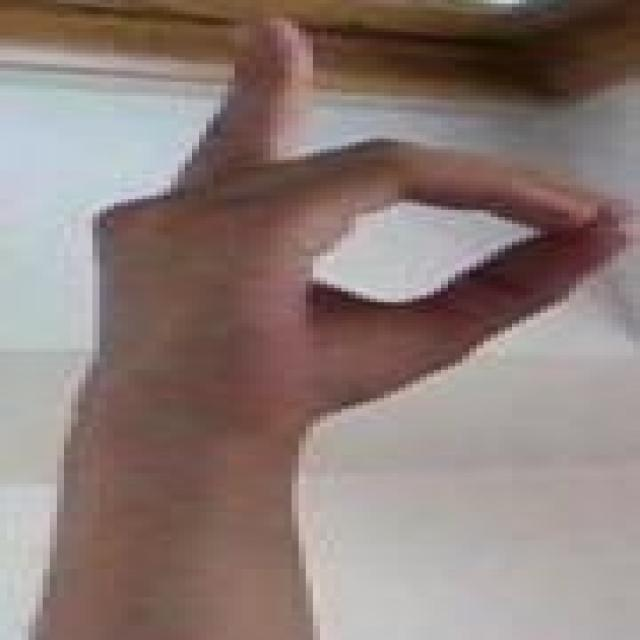D1: (14, 0, 640, 462)
